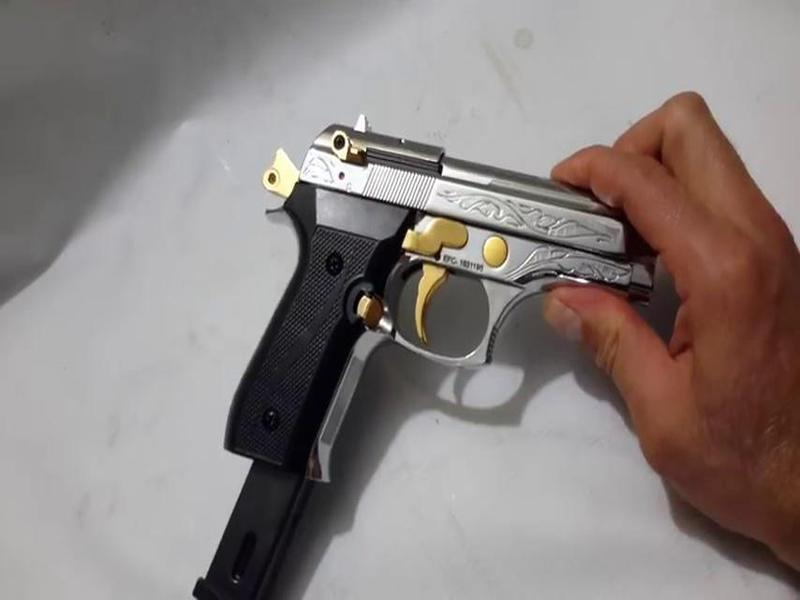Pistola: (227, 104, 662, 488)
